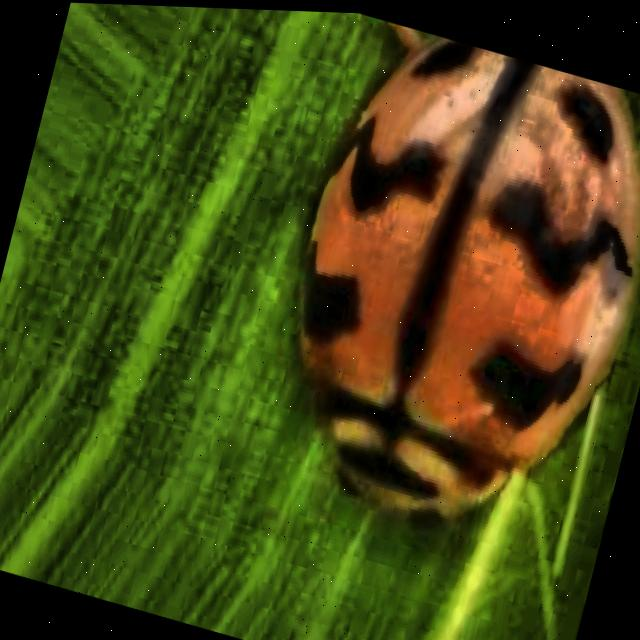Asian-Lady-beetle: (196, 6, 640, 606)
